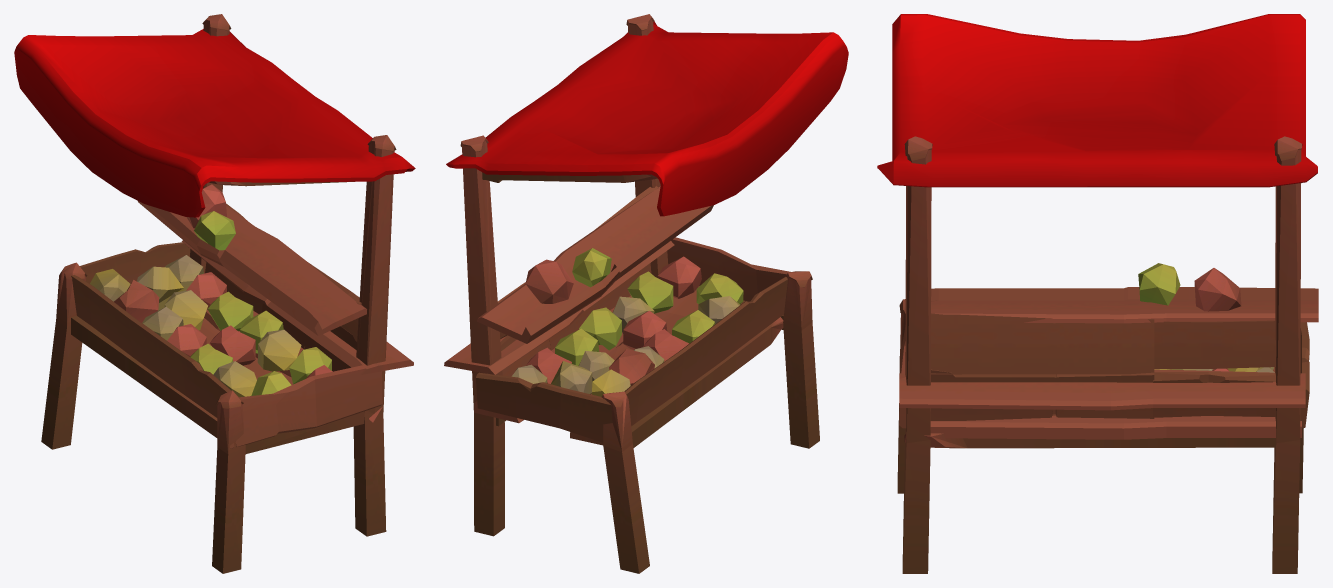
3 views of the same model, side by side, from view 1: azimuth 30°, elevation 25°; view 2: azimuth 150°, elevation 25°; view 3: azimuth 270°, elevation 25° (orthographic). The views are drawn at different scales.
Parts seen in each view (by area): view 1: MarketStandRed; view 2: MarketStandRed; view 3: MarketStandRed.
Boxes of the visible parts, bbox=[...] form: MarketStandRed: bbox=[14, 14, 415, 573]; MarketStandRed: bbox=[444, 14, 848, 573]; MarketStandRed: bbox=[877, 14, 1318, 573].
Bounding box in the file's own units: 67.78 × 120 × 104.
Materials: 1 (1 with a texture image).
